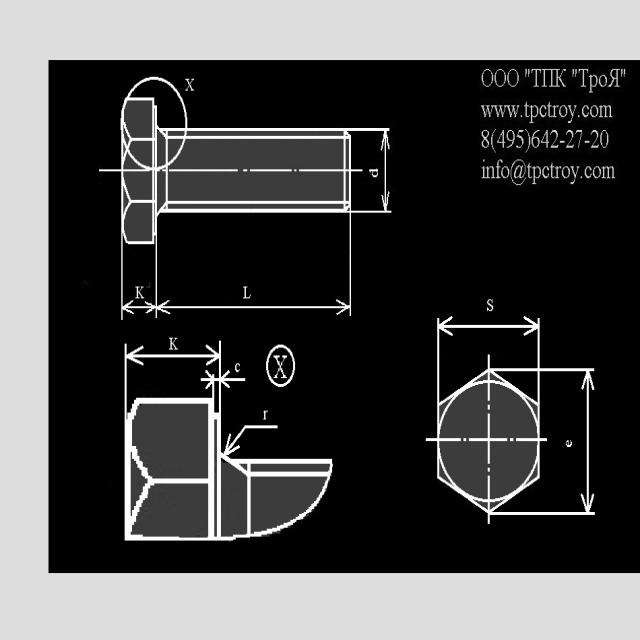marking_line: (157, 300, 347, 317), (581, 369, 596, 516), (440, 315, 537, 333), (129, 345, 217, 363), (381, 133, 391, 210), (221, 367, 247, 389), (123, 301, 154, 318), (196, 371, 214, 392)
special_symbol: (224, 419, 282, 454)
